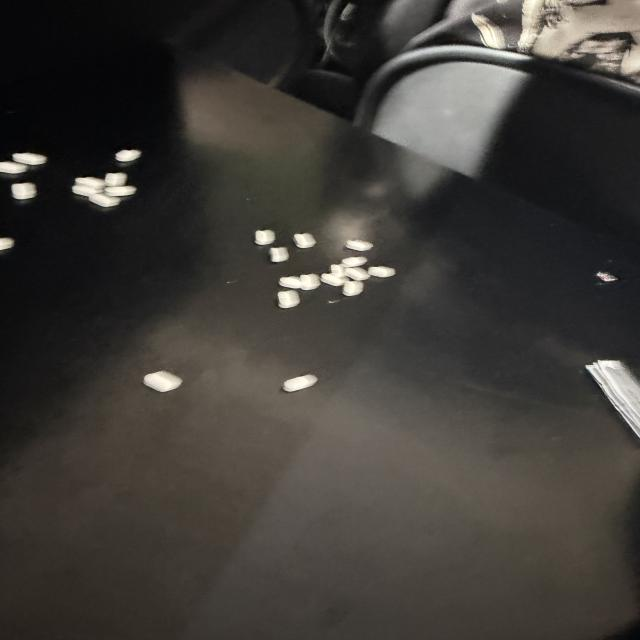pill: (144, 371, 182, 392), (283, 375, 318, 392), (89, 193, 119, 207), (13, 153, 47, 165), (12, 183, 37, 199), (278, 290, 299, 308), (75, 177, 104, 189), (0, 161, 27, 173), (104, 186, 136, 196), (300, 274, 320, 290), (72, 185, 101, 196), (115, 150, 141, 162), (345, 268, 370, 280), (255, 230, 275, 245), (343, 281, 363, 296), (345, 240, 372, 251), (294, 234, 315, 248), (321, 274, 345, 286), (105, 173, 127, 186), (270, 247, 289, 262), (342, 256, 367, 267), (368, 267, 395, 277), (279, 277, 301, 288), (596, 272, 618, 281), (330, 264, 344, 277), (0, 238, 15, 250)
